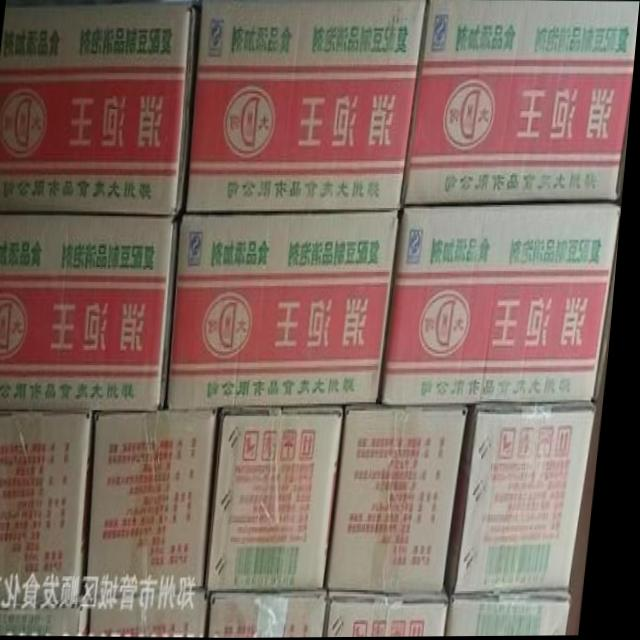box: (189, 0, 426, 212), (385, 204, 625, 405), (405, 0, 640, 204), (173, 213, 405, 411), (0, 1, 198, 214), (0, 215, 182, 411), (456, 401, 602, 593), (337, 403, 475, 593), (217, 407, 351, 593), (98, 411, 223, 591), (0, 416, 99, 603), (457, 588, 583, 637), (335, 590, 459, 638), (101, 590, 220, 637), (218, 592, 338, 638), (0, 602, 99, 636)
